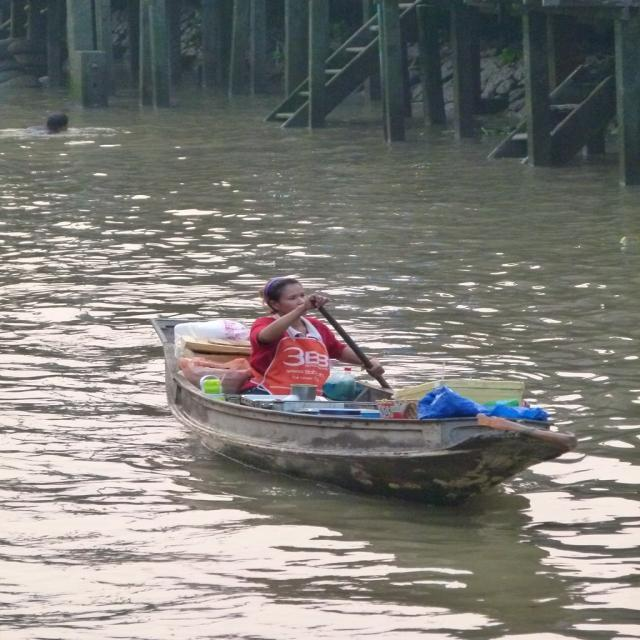boat: (149, 308, 585, 502)
